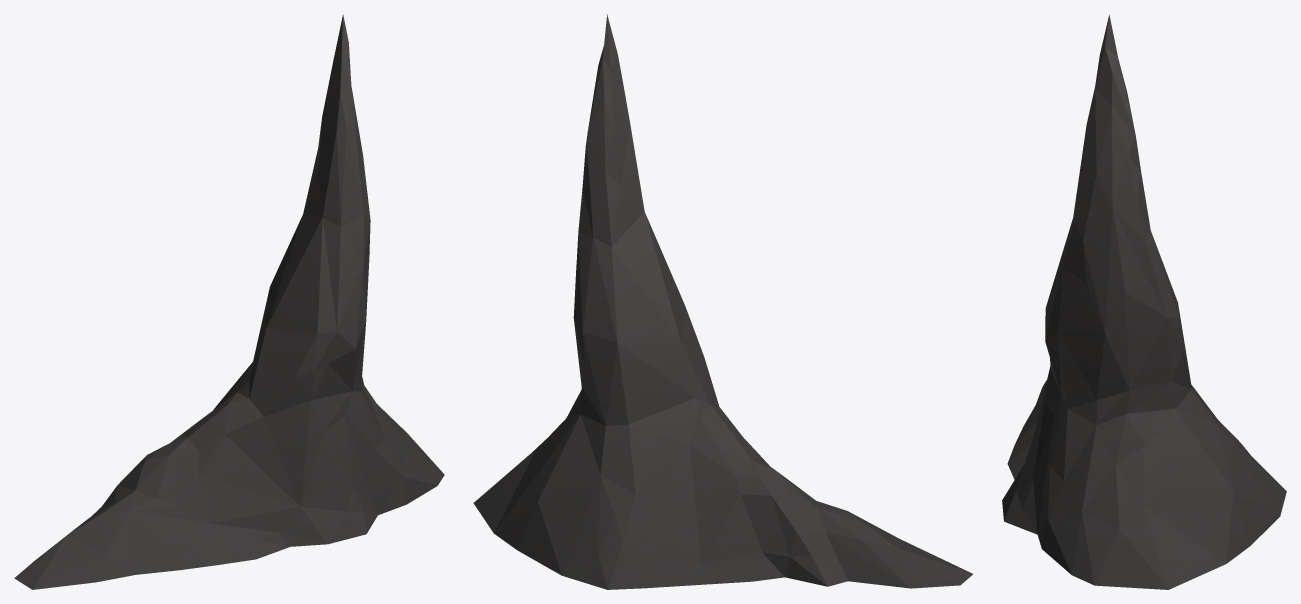
Rendered from ZLP_Rock_D_13.FBX.
3 views of the same model, side by side, from view 1: azimuth 30°, elevation 25°; view 2: azimuth 150°, elevation 25°; view 3: azimuth 270°, elevation 25° (orthographic). The views are drawn at different scales.
Parts seen in each view (by area): view 1: ZLP_Rock_D_13; view 2: ZLP_Rock_D_13; view 3: ZLP_Rock_D_13.
Part boxes in pixels (x1=…): ZLP_Rock_D_13: x1=14, y1=14, x2=444, y2=589; ZLP_Rock_D_13: x1=473, y1=14, x2=972, y2=589; ZLP_Rock_D_13: x1=1002, y1=15, x2=1286, y2=589.
Size of the model in its own units: 530 by 554 by 274.
